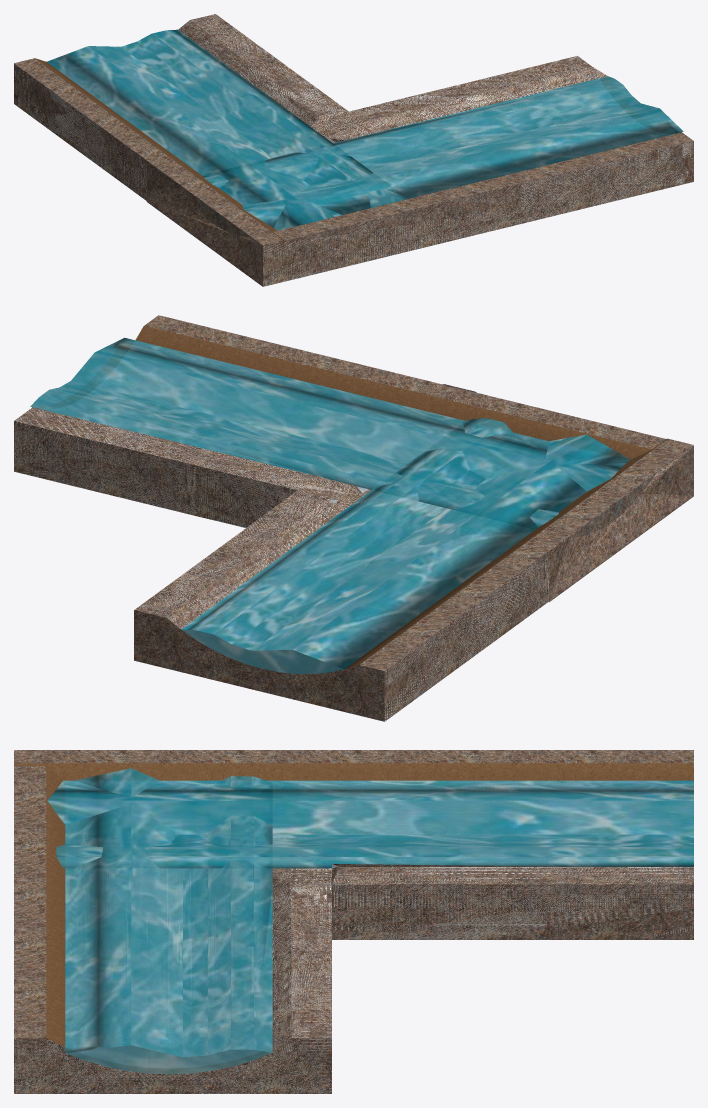
The model's file is wire_turn.fbx.
3 renders of one model, top to bottom at view 1: azimuth 30°, elevation 25°; view 2: azimuth 150°, elevation 25°; view 3: azimuth 270°, elevation 25°, orthographic. The views are drawn at different scales.
Parts seen in each view (by area): view 1: Model; view 2: Model; view 3: Model.
Boxes of the visible parts, <box> form: Model: <box>14,14,693,286</box>; Model: <box>14,315,693,721</box>; Model: <box>14,750,693,1093</box>.
Bounding box in the file's own units: 142 × 12.85 × 139.
